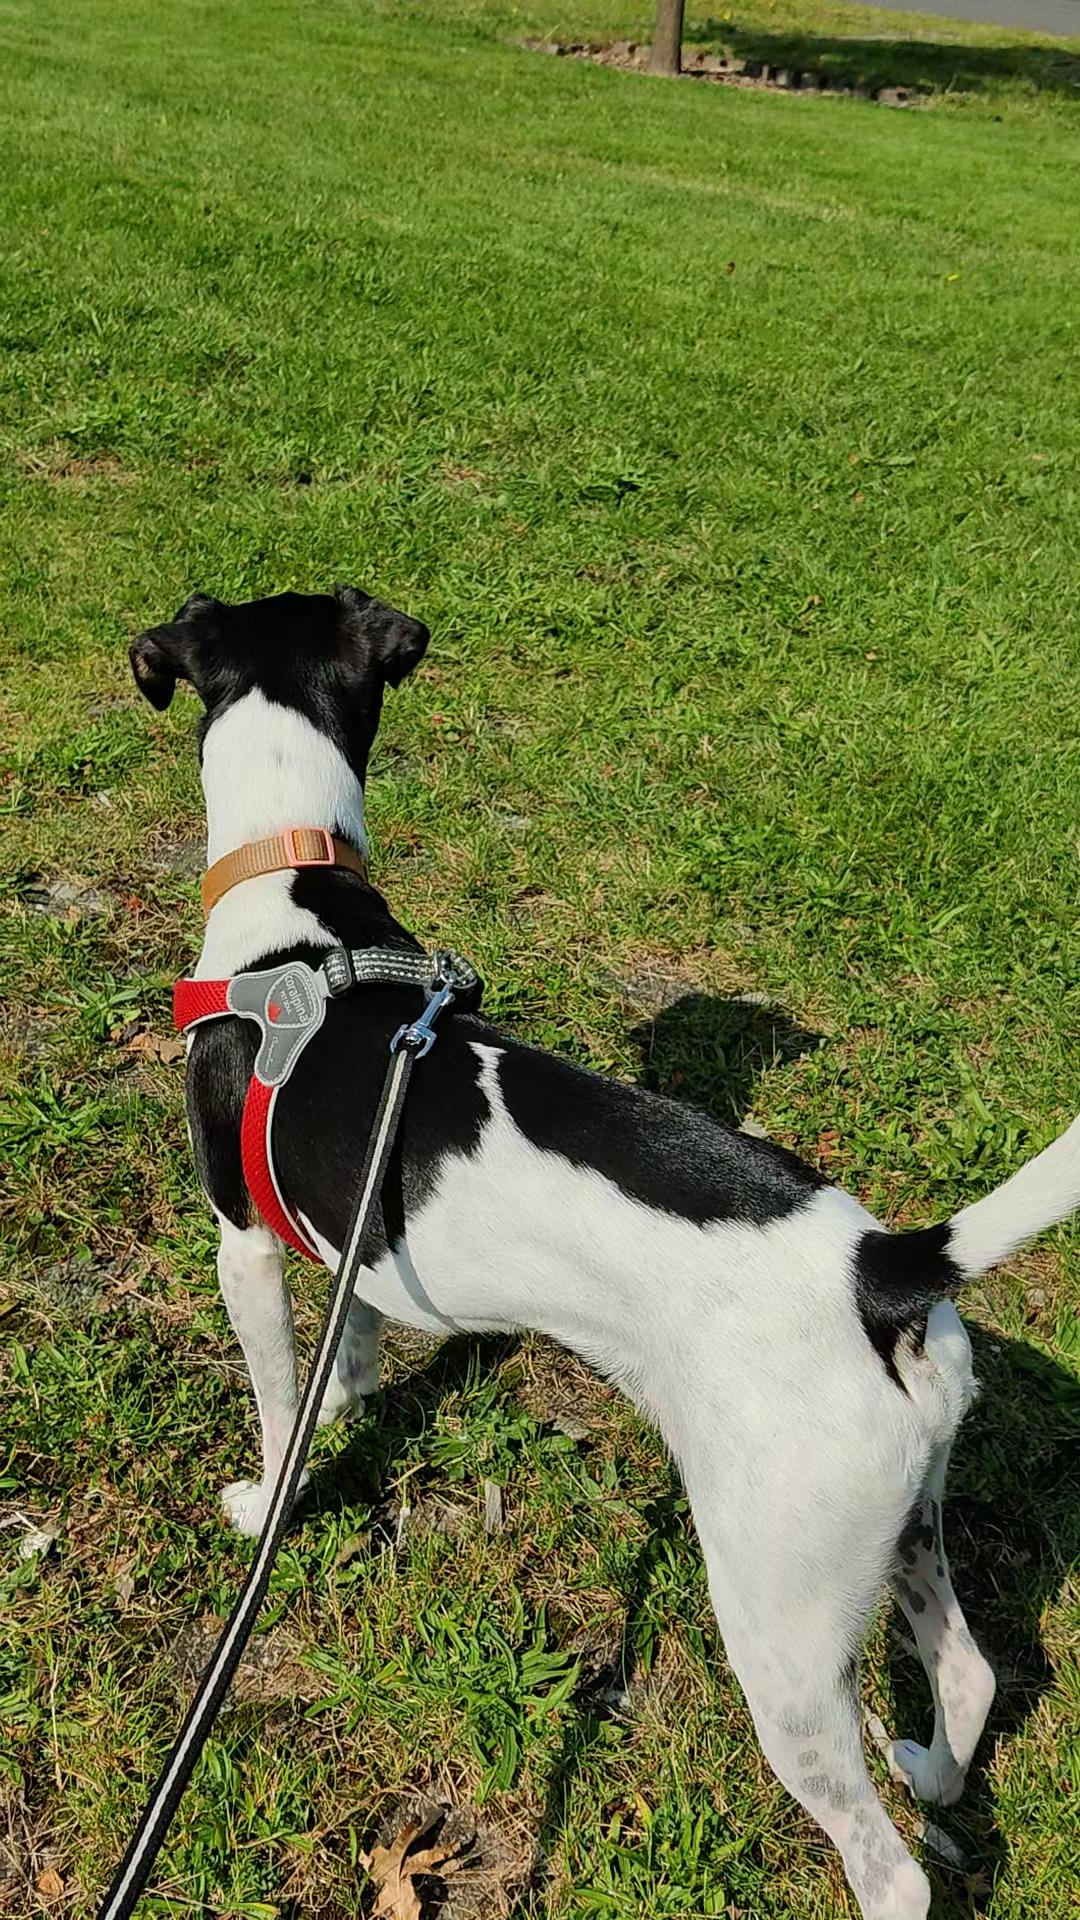Dog: (117, 564, 1079, 1919)
